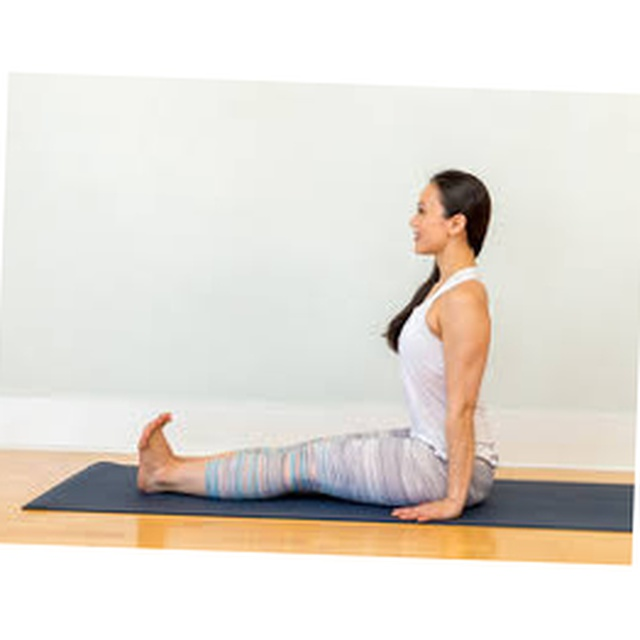Staff_Pose: (135, 169, 500, 523)
